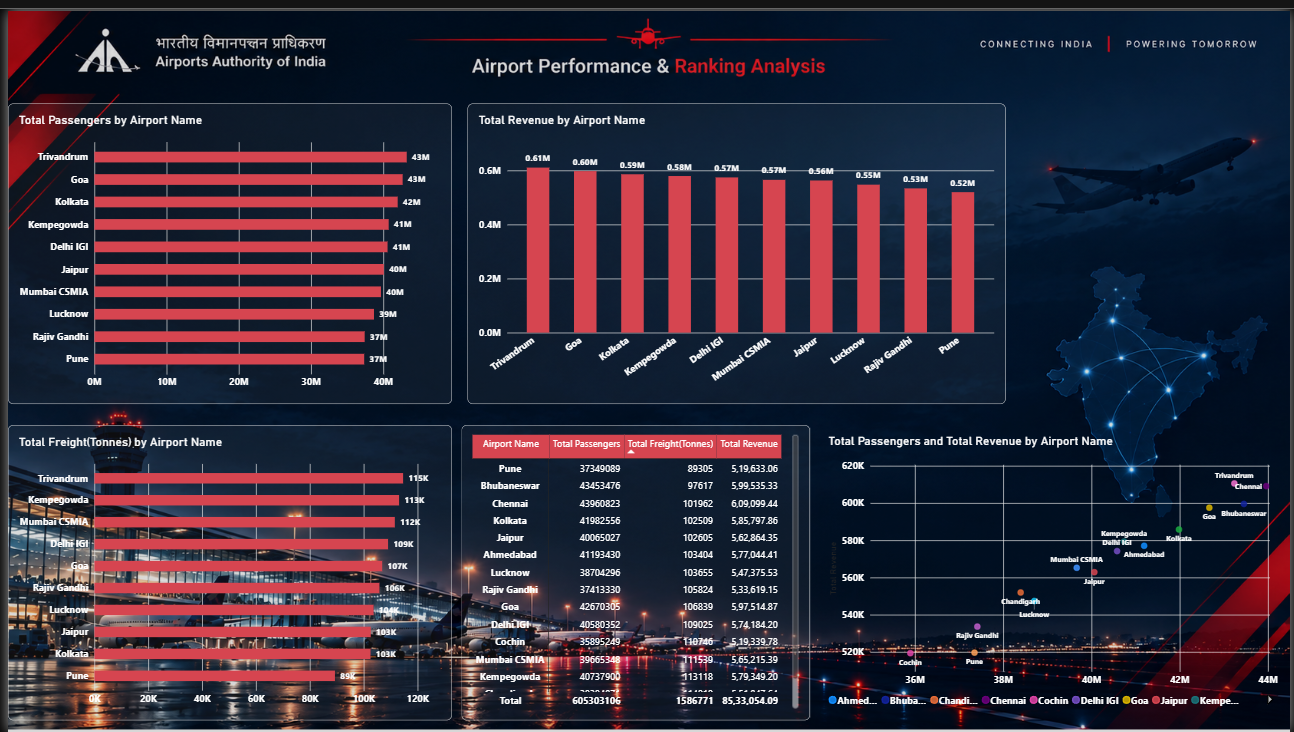

This screenshot's page, from the dashboard's own definition file:
{"tool":"powerbi","page":{"name":"Performance ","canvas":[1920,1080],"ordinal":1},"visuals":[{"type":"clusteredBarChart","fields":{"Category":["Airport_Dim.Airport Name"],"Y":["Airport_Traffic_Fact.Total Passengers"]},"box":[0,138.3,665,450],"z":1},{"type":"clusteredColumnChart","fields":{"Category":["Airport_Dim.Airport Name"],"Y":["Airport_Traffic_Fact.Total Revenue"]},"box":[688.3,138.3,806.7,450],"z":2},{"type":"clusteredBarChart","fields":{"Category":["Airport_Dim.Airport Name"],"Y":["Airport_Traffic_Fact.Total Freight(Tonnes)"]},"box":[0,620,665.6,442.2],"z":3},{"type":"pivotTable","fields":{"Rows":["Airport_Dim.Airport Name"],"Values":["Airport_Traffic_Fact.Total Passengers","Airport_Traffic_Fact.Total Freight(Tonnes)","Airport_Traffic_Fact.Total Revenue"]},"box":[678.9,620,522.2,442.2],"z":4},{"type":"scatterChart","fields":{"Series":["Airport_Dim.Airport Name"],"X":["Airport_Traffic_Fact.Total Passengers"],"Y":["Airport_Traffic_Fact.Total Revenue"]},"box":[1212.5,620,707.8,442.2],"z":5}]}

Visuals, with their boxes in screenshot pixels (x1, y1, x2, y2), scaled from the page's 1920x1080 canvas onto the 1294x732 screenshot:
clusteredBarChart - Airport_Dim.Airport Name x Airport_Traffic_Fact.Total Passengers: [left=0, top=94, right=448, bottom=399]
clusteredColumnChart - Airport_Dim.Airport Name x Airport_Traffic_Fact.Total Revenue: [left=464, top=94, right=1008, bottom=399]
clusteredBarChart - Airport_Dim.Airport Name x Airport_Traffic_Fact.Total Freight(Tonnes): [left=0, top=420, right=449, bottom=720]
pivotTable - Airport_Dim.Airport Name x Airport_Traffic_Fact.Total Passengers: [left=458, top=420, right=809, bottom=720]
scatterChart - Airport_Dim.Airport Name x Airport_Traffic_Fact.Total Passengers: [left=817, top=420, right=1293, bottom=720]
